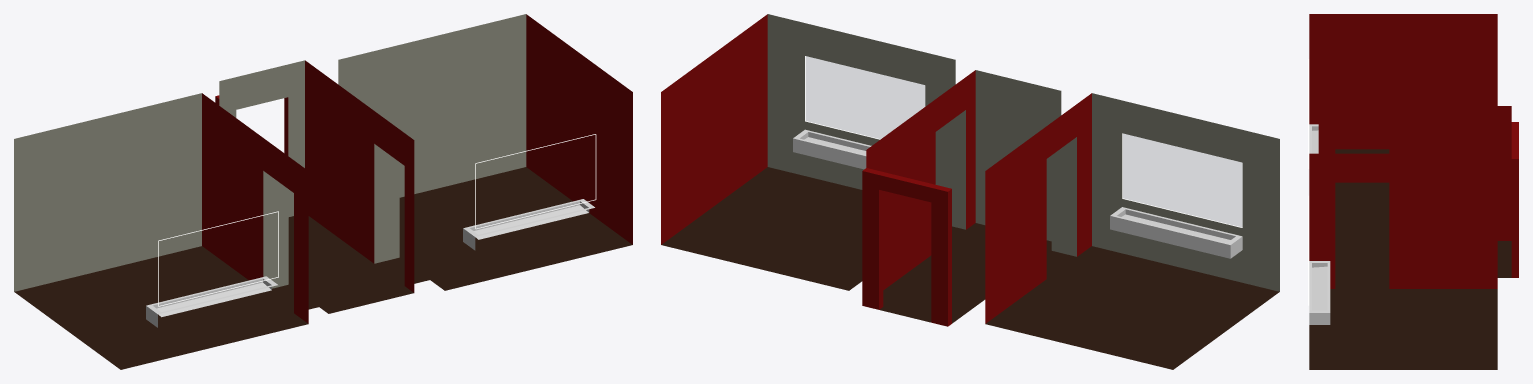
The model's file is restroom.glb.
3 views of the same model, side by side, from view 1: azimuth 30°, elevation 25°; view 2: azimuth 150°, elevation 25°; view 3: azimuth 270°, elevation 25° (orthographic). The views are drawn at different scales.
Visible parts, largest first — view 1: RestRooms; view 2: RestRooms; view 3: RestRooms.
Boxes of the visible parts, x1,y1,x2,y2 form: RestRooms: [14, 14, 632, 369]; RestRooms: [661, 14, 1279, 369]; RestRooms: [1308, 14, 1518, 369].
Size of the model in its own units: 9.81 by 2.8 by 3.96.
